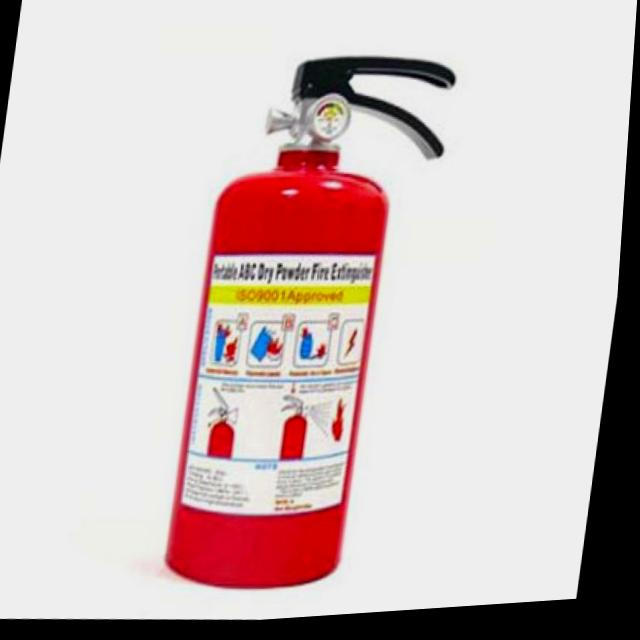FireExtinguisher: (156, 39, 466, 611)
